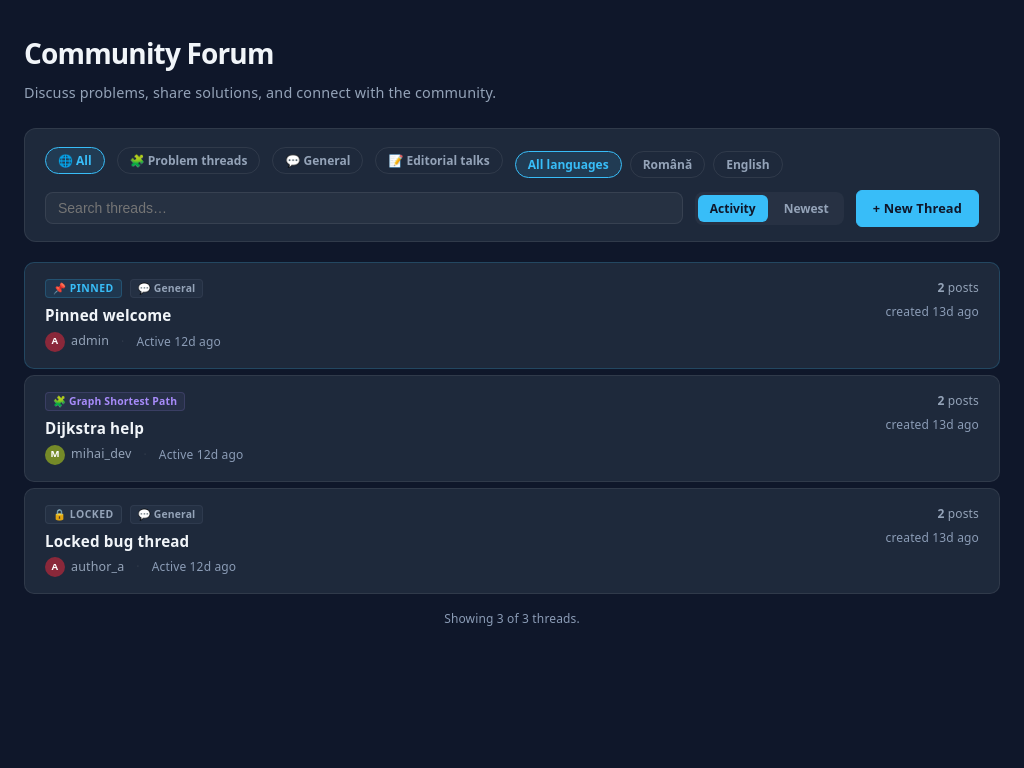
Test case: ForumPage (live threads) › searches the loaded rows client-side
Expected: the heading "Dijkstra help" is shown, x1=45 y1=418 x2=144 y2=438
Type "dijkstra" into the field labelled "Search threads" at (364, 208), box x1=45 y1=192 x2=683 y2=224
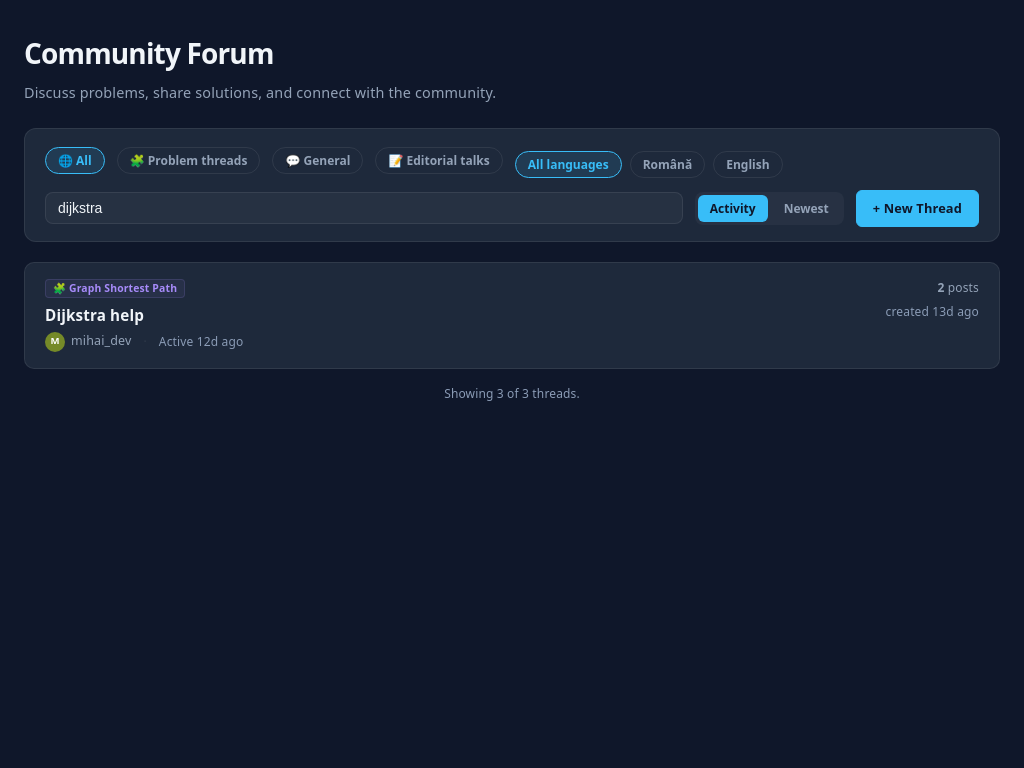
Expected: the heading "Dijkstra help" is shown, x1=45 y1=305 x2=144 y2=325
Now the link "Pinned welcome" is gone
